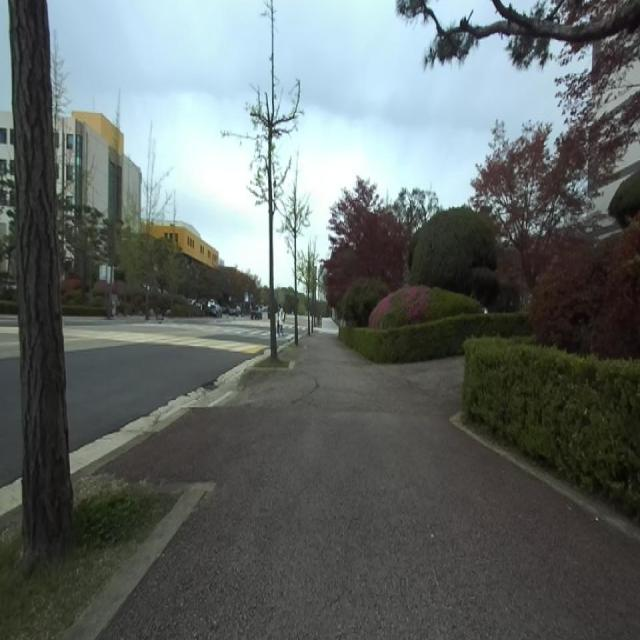sidewalk: (102, 333, 640, 639), (313, 317, 339, 333)
